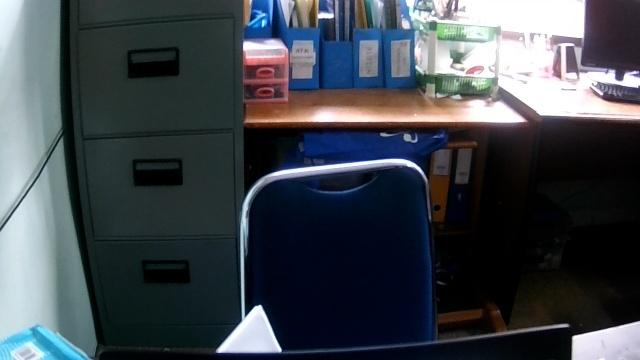Filing Cabinet: (69, 0, 243, 348)
